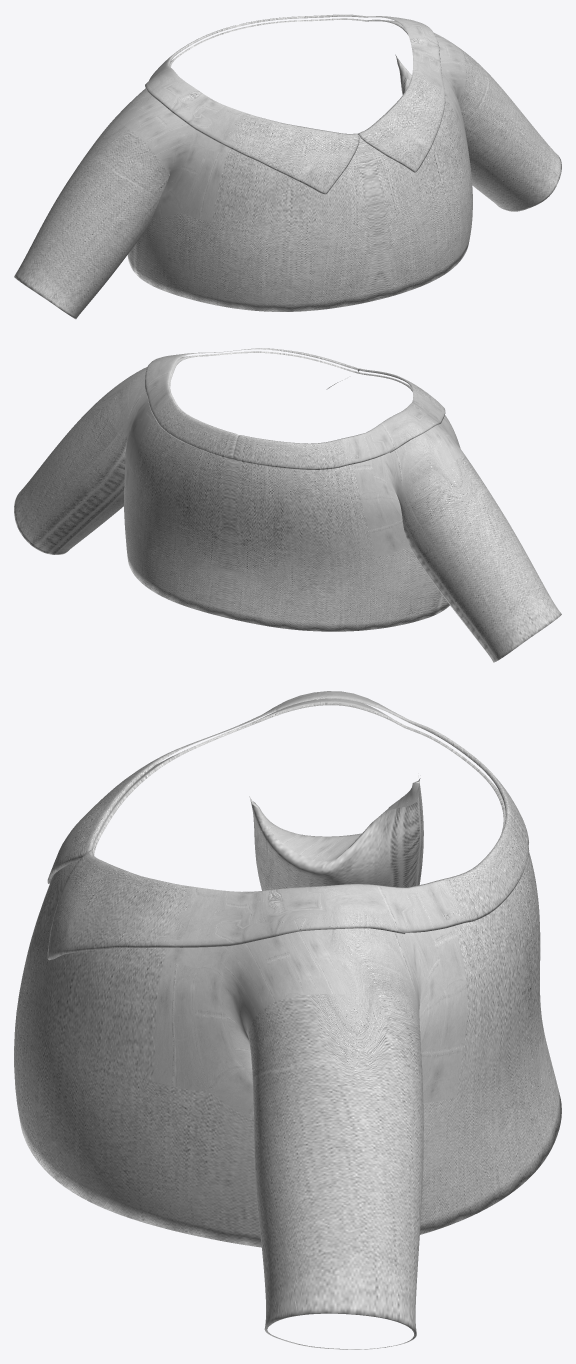
Rendered from pppplease.glb.
3 renders of one model, top to bottom at view 1: azimuth 30°, elevation 25°; view 2: azimuth 150°, elevation 25°; view 3: azimuth 270°, elevation 25°, orthographic. The views are drawn at different scales.
Visible parts, largest first — view 1: hyein_top; view 2: hyein_top; view 3: hyein_top.
Boxes of the visible parts, box(x1,y1,x2,y2) form: hyein_top: box(14, 14, 561, 319); hyein_top: box(14, 348, 561, 662); hyein_top: box(14, 691, 561, 1349).
Size of the model in its own units: 58.98 by 22.74 by 30.1.
Materials: 1 (1 with a texture image).
